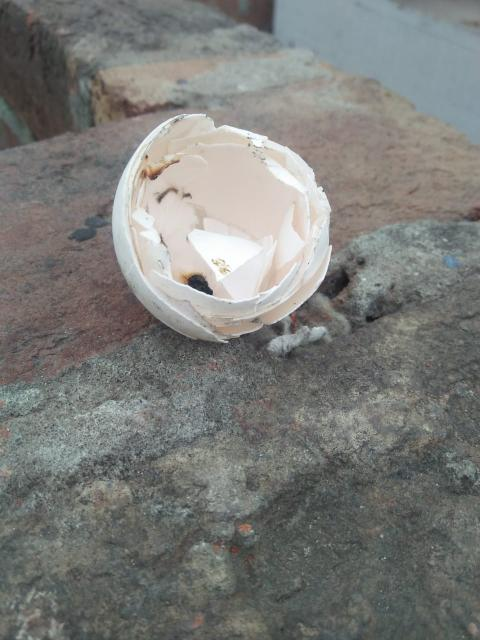Roto: (111, 111, 333, 344)
